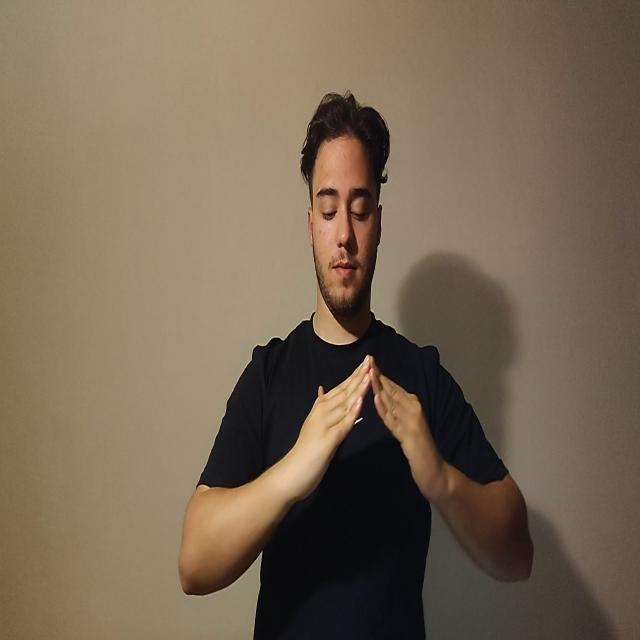house: (288, 350, 447, 512)
